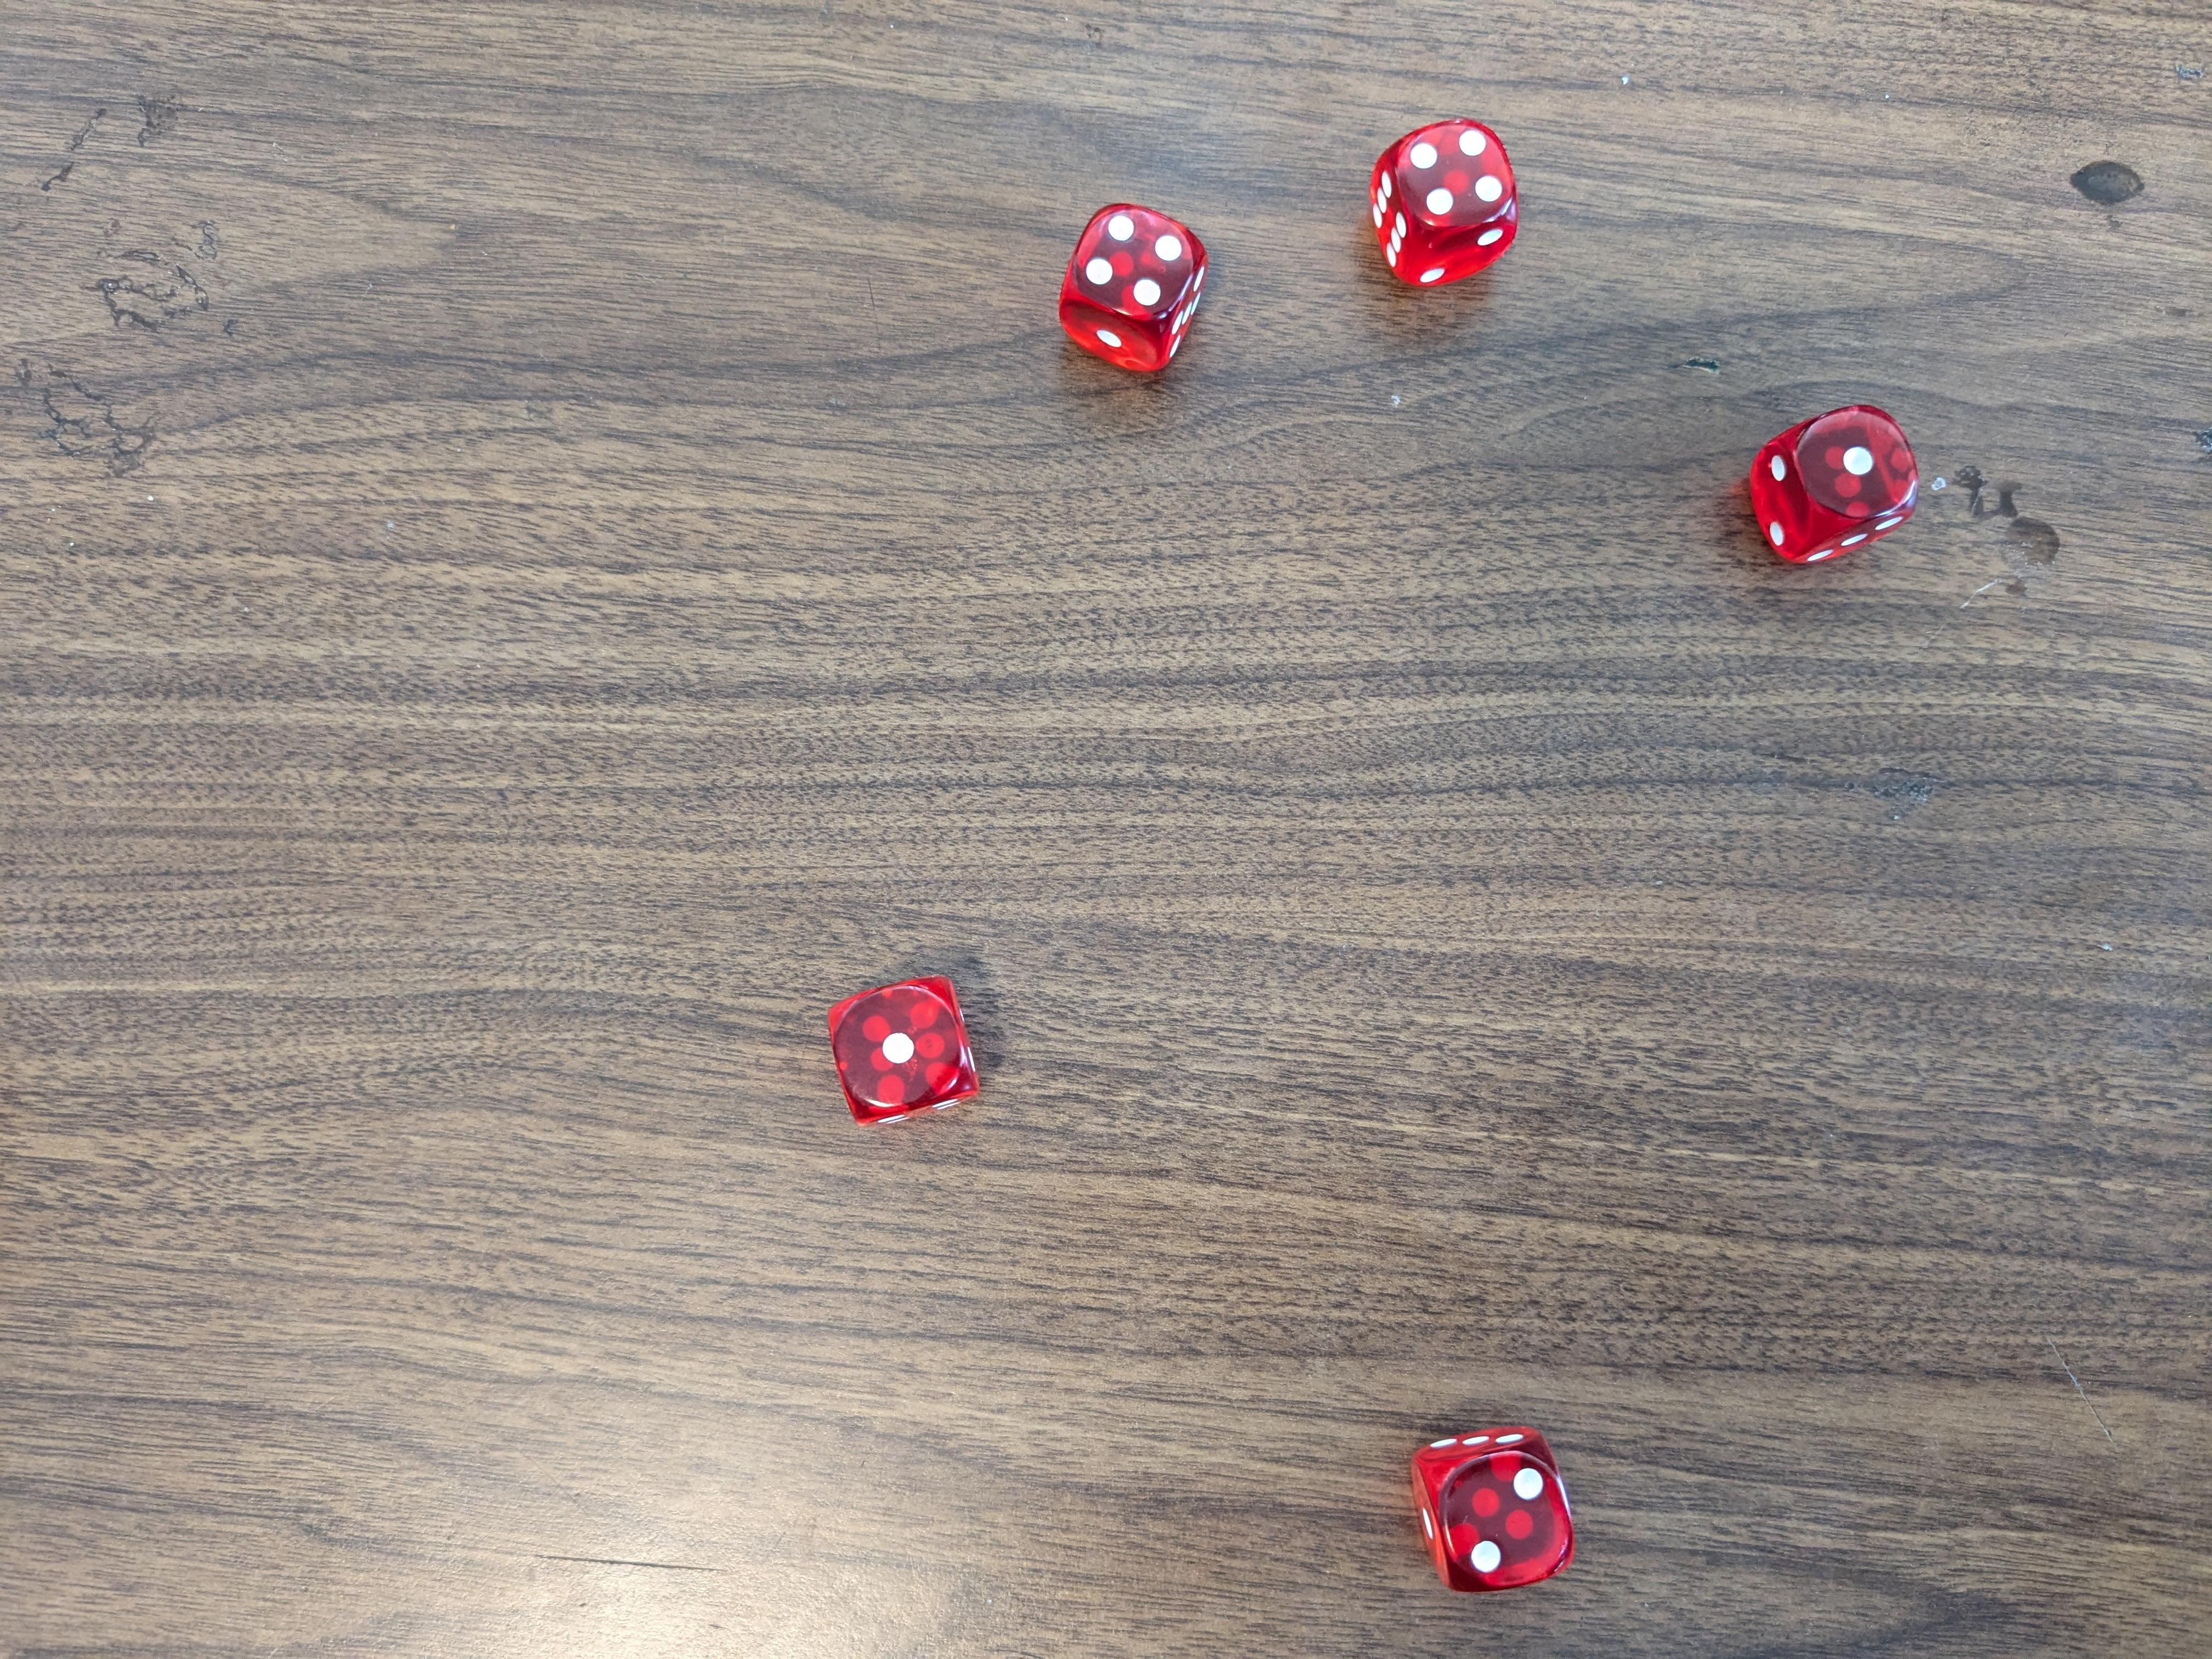four: (1364, 110, 1529, 298), (1062, 202, 1211, 380)
one: (1752, 406, 1928, 570), (822, 974, 989, 1129)
two: (1411, 1425, 1576, 1593)
